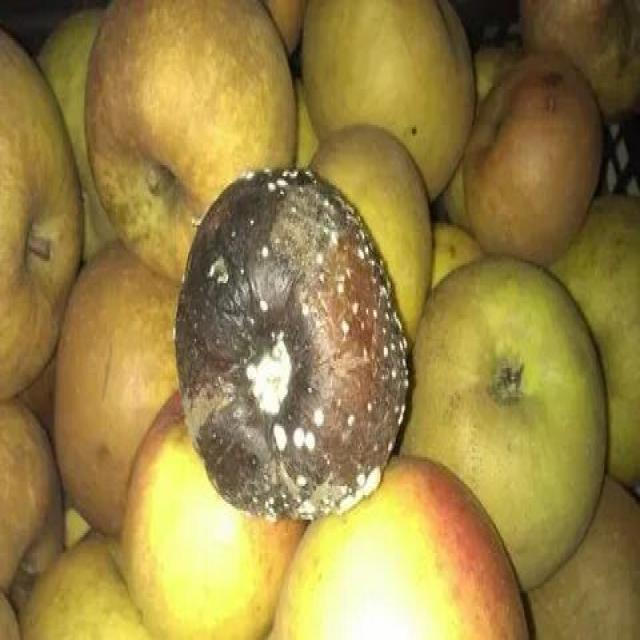fresh_apple: (419, 254, 610, 591), (4, 30, 84, 394)
rotten_apple: (176, 166, 409, 523)
